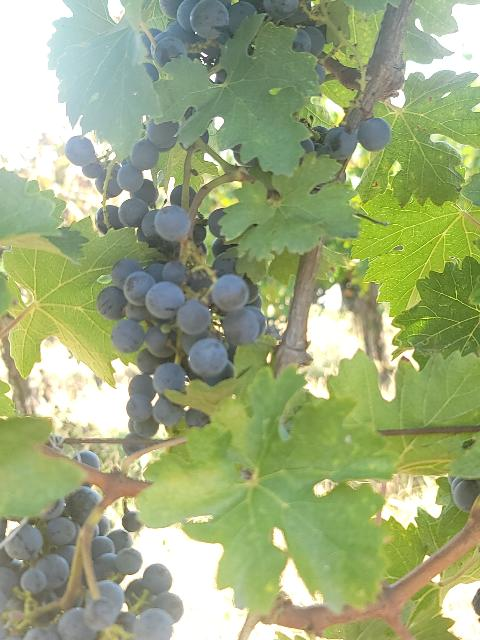grapes: (96, 259, 266, 439), (0, 486, 184, 640), (144, 0, 309, 66)
